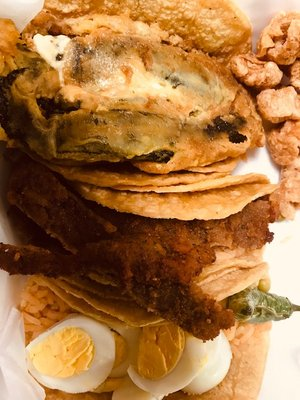soup: (0, 1, 295, 387)
